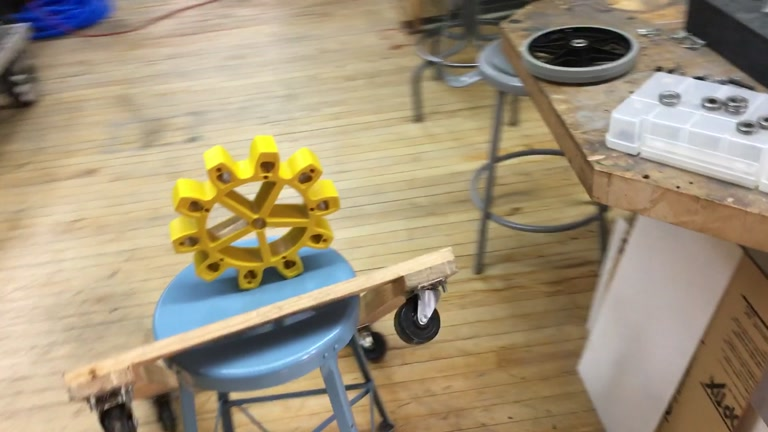gear: (171, 138, 343, 291)
